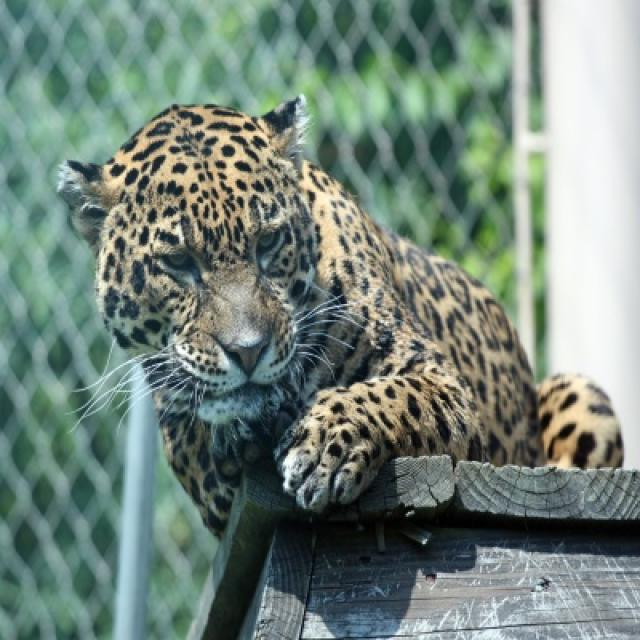Jaguar: (56, 96, 616, 539)
